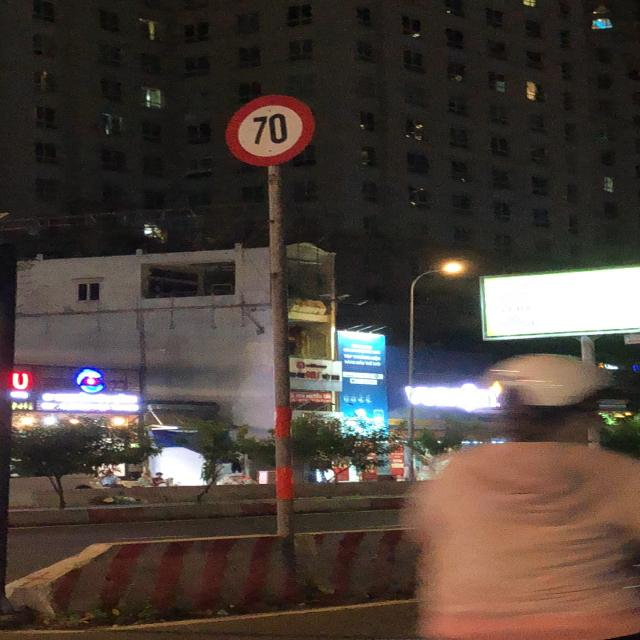Bien bao toc do toi da cho phep: (223, 91, 324, 168)
